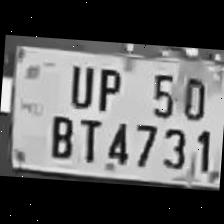0: (176, 68, 209, 120)
1: (186, 124, 215, 176)
3: (156, 121, 188, 170)
4: (102, 114, 132, 167)
5: (145, 64, 178, 116)
7: (127, 116, 156, 168)
B: (44, 108, 76, 160)
P: (90, 58, 124, 110)
T: (74, 112, 102, 162)
U: (62, 56, 96, 106)
